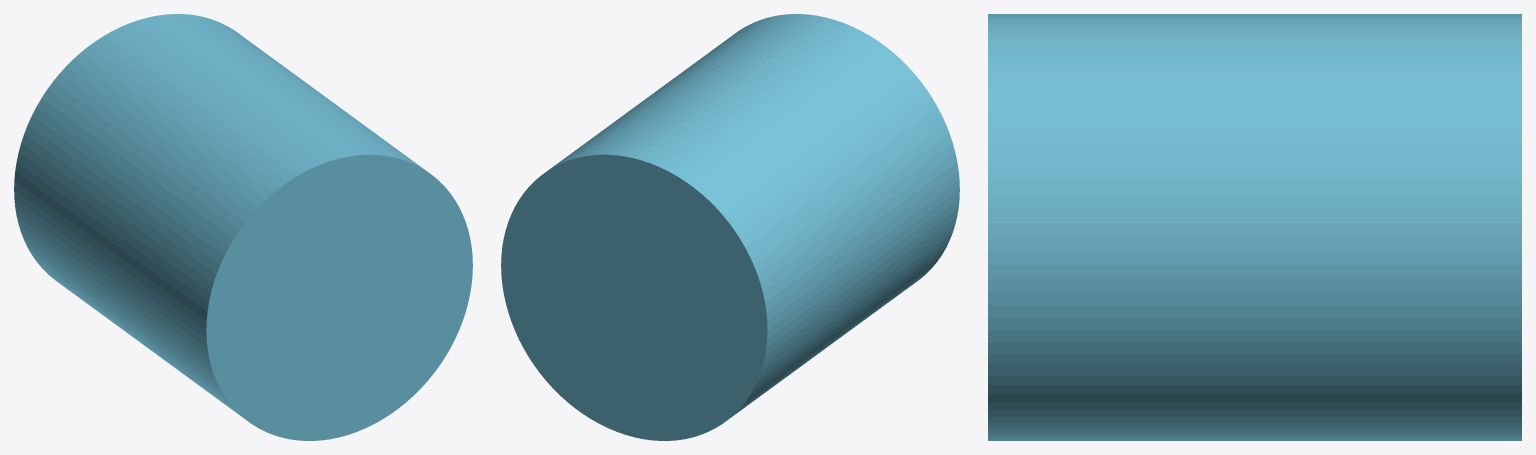
File: cyl_demo.glb
3 renders of one model, left to right at view 1: azimuth 30°, elevation 25°; view 2: azimuth 150°, elevation 25°; view 3: azimuth 270°, elevation 25°, orthographic. The views are drawn at different scales.
Parts seen in each view (by area): view 1: cylinder; view 2: cylinder; view 3: cylinder.
Boxes of the visible parts, <box> form: cylinder: <box>14,14,472,440</box>; cylinder: <box>501,14,959,440</box>; cylinder: <box>988,14,1521,440</box>.
Bounding box in the file's own units: 16 × 16 × 20.
